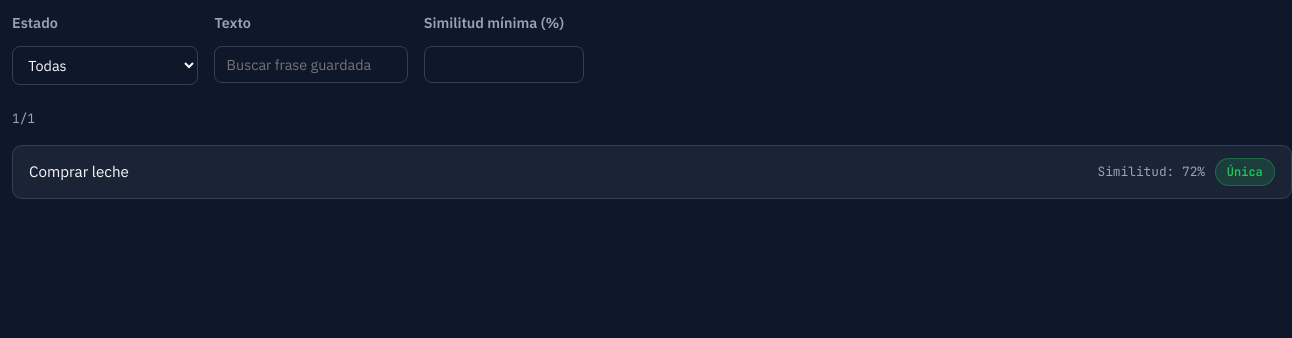
Test case: PhraseList › compare with the matched phrase › collapses the panel when clicked again
Click the button named "Comparar": (1151, 172) [1098,162,1205,181]
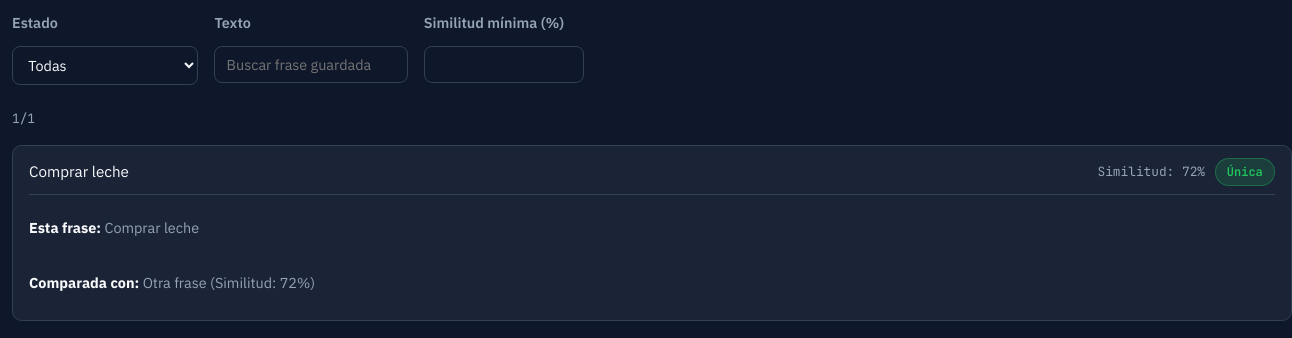
Expected: the text "Otra frase" is shown, [143,273,207,292]
Click the button named "Ocultar": (1151, 172) [1098,162,1205,181]
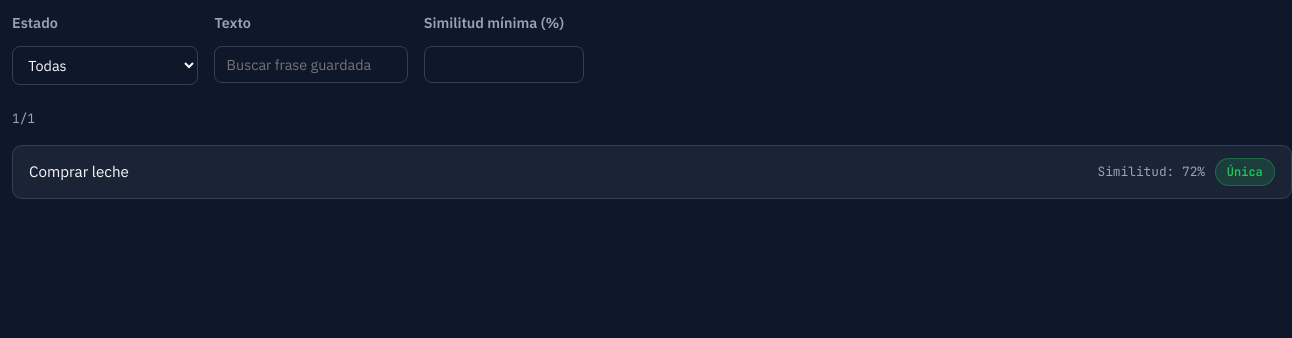
Expected: the text "Otra frase" is gone
